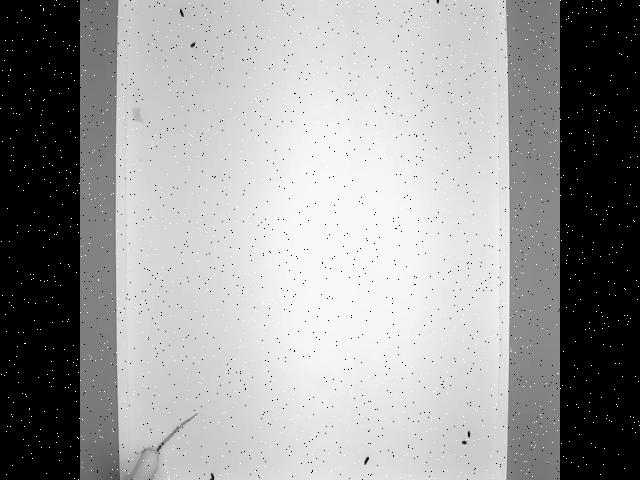Tikus: (120, 408, 204, 480)
